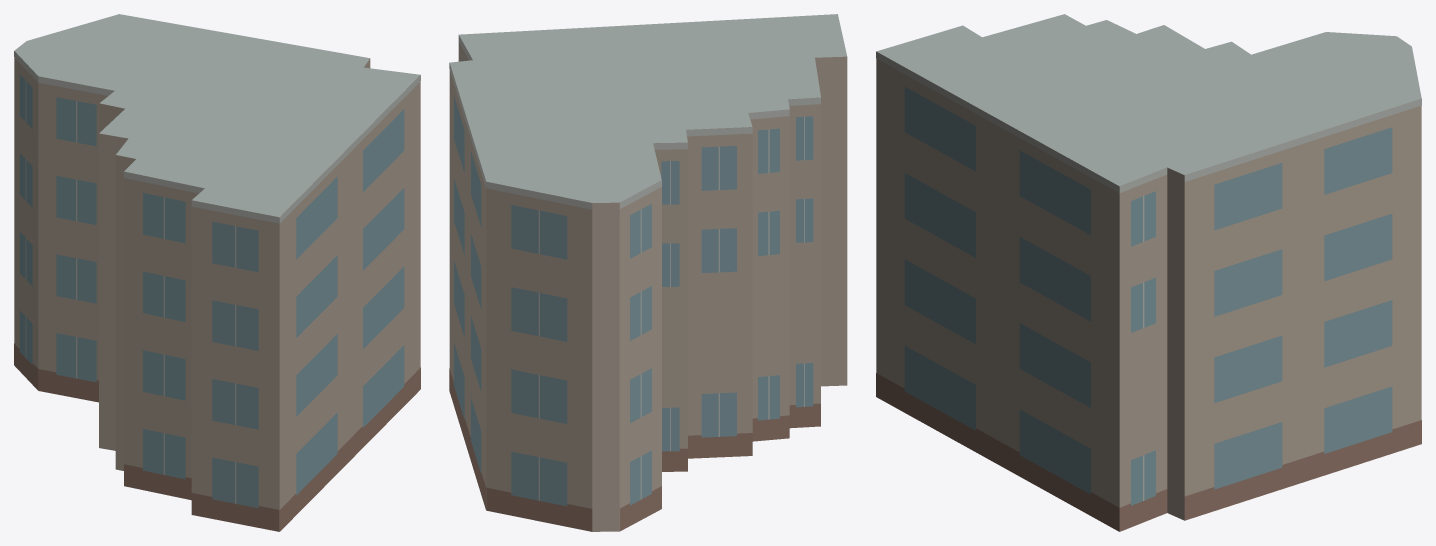
File: survey-upis-32989552.glb
3 renders of one model, left to right at view 1: azimuth 30°, elevation 25°; view 2: azimuth 150°, elevation 25°; view 3: azimuth 270°, elevation 25°, orthographic. The views are drawn at different scales.
Parts seen in each view (by area): view 1: survey-upis-32989552.tmp; view 2: survey-upis-32989552.tmp; view 3: survey-upis-32989552.tmp.
Part boxes in pixels (box(x1,y1,x2,y2)): survey-upis-32989552.tmp: box(14, 14, 420, 531); survey-upis-32989552.tmp: box(449, 14, 847, 531); survey-upis-32989552.tmp: box(876, 14, 1421, 531).
Size of the model in its own units: 12.96 by 12.1 by 17.33.
